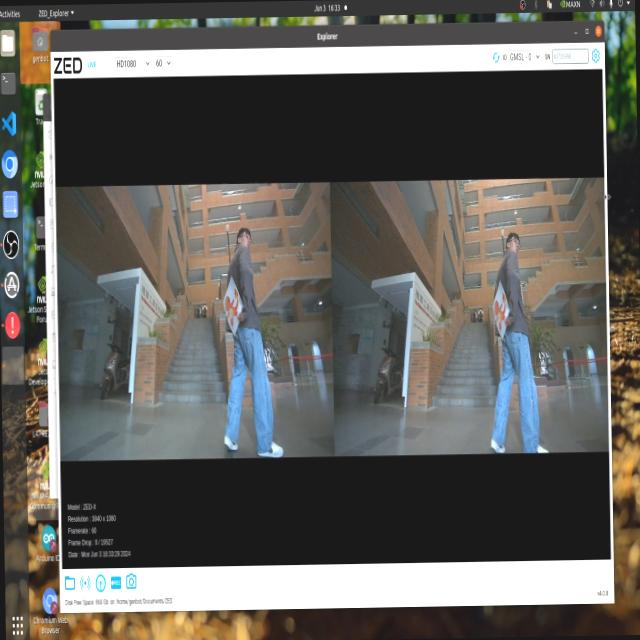red: (492, 294, 516, 344), (222, 284, 240, 332)
